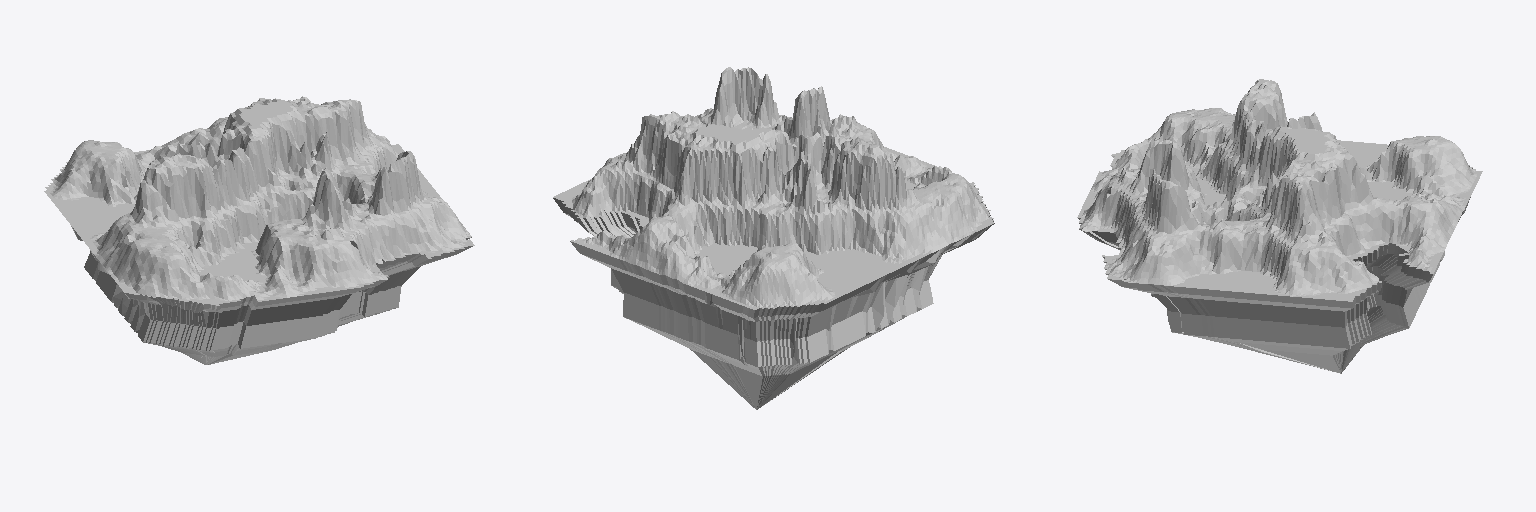
File: iCEBERG.obj
The picture shows the model from 3 angles: view 1: azimuth 30°, elevation 25°; view 2: azimuth 150°, elevation 25°; view 3: azimuth 270°, elevation 25°; orthographic projection.
Visible parts, largest first — view 1: BIgLand_Landscape.006; view 2: BIgLand_Landscape.006; view 3: BIgLand_Landscape.006.
Boxes of the visible parts, <box> form: BIgLand_Landscape.006: <box>44,96,474,364</box>; BIgLand_Landscape.006: <box>553,67,994,409</box>; BIgLand_Landscape.006: <box>1077,79,1482,373</box>.
Bounding box in the file's own units: 158 × 107 × 155.